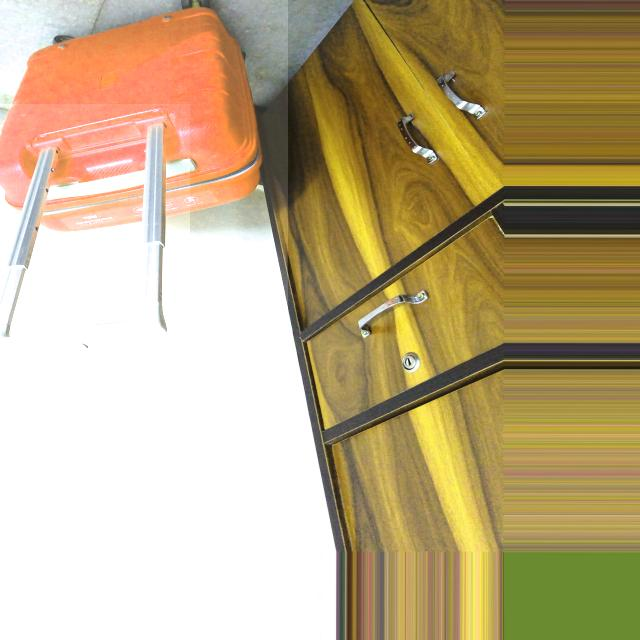Bag: (0, 2, 282, 349)
Handle: (2, 118, 177, 347)
